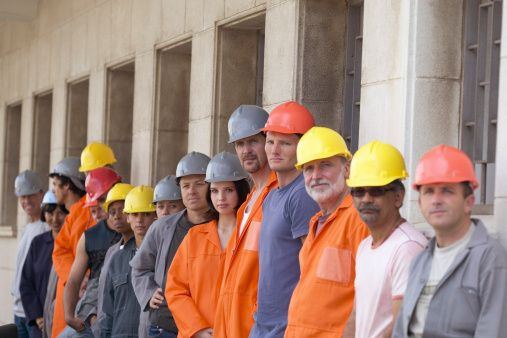Safety Helmet: (409, 139, 485, 236), (344, 136, 411, 218), (296, 122, 349, 219), (262, 98, 310, 177), (223, 102, 271, 177), (168, 146, 214, 215), (205, 148, 247, 220), (11, 164, 49, 226), (121, 181, 157, 246), (151, 172, 187, 229), (44, 153, 85, 201), (104, 182, 136, 240), (76, 136, 117, 181), (83, 163, 122, 210)
